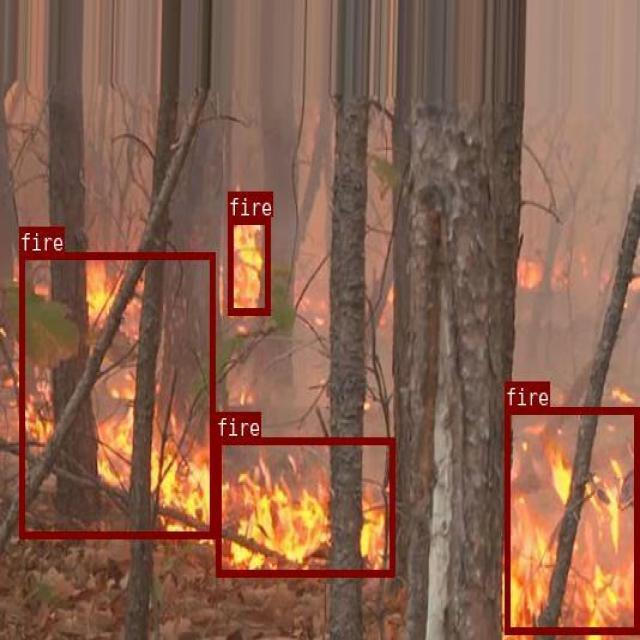fire: (19, 252, 214, 537), (504, 407, 637, 632), (215, 437, 393, 576), (227, 215, 269, 313)
